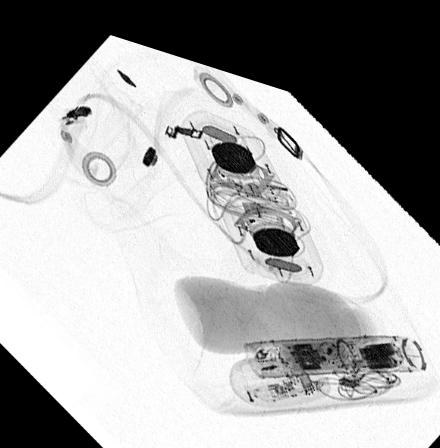Baton: (241, 308, 428, 362)
